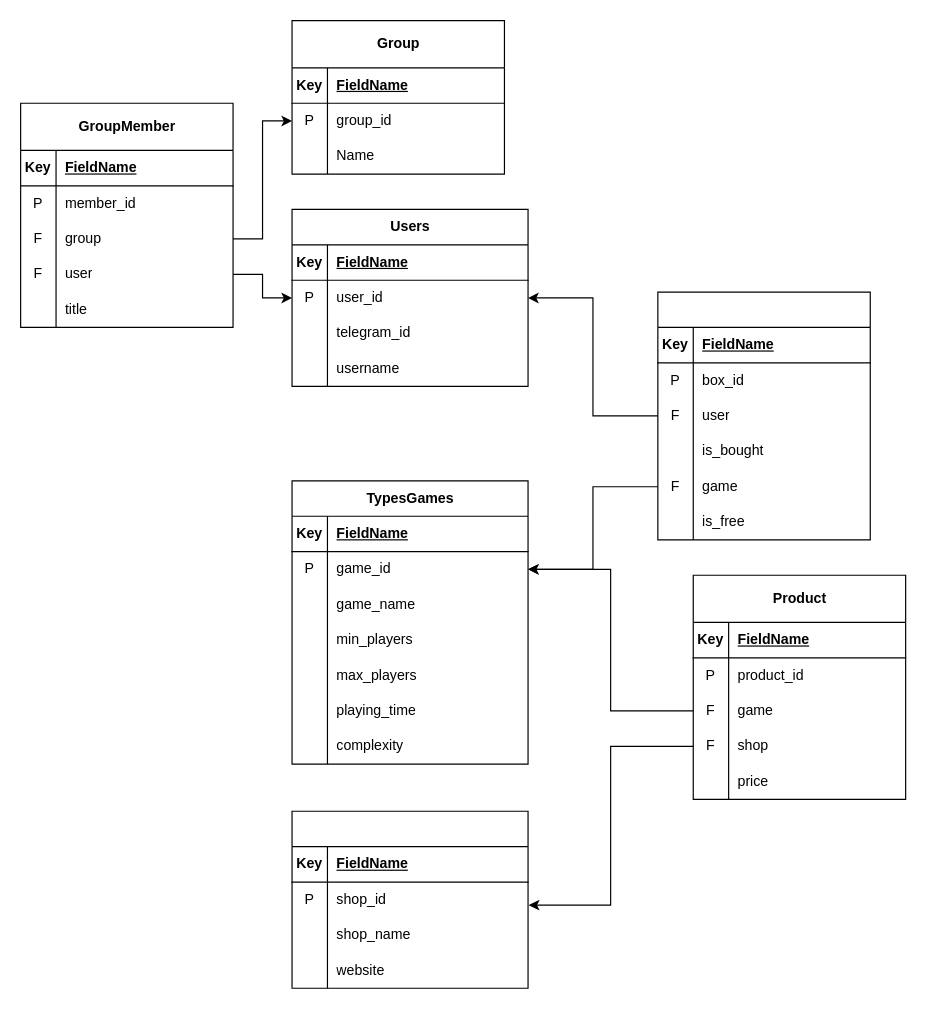
Image size: 926x1009. Some labels were removed from this diagram. The box of each missing label's shape, as (x1, y1, x2, y2) in pixels:
GameBoards: (657, 291, 870, 540)
Shops: (291, 810, 528, 988)
